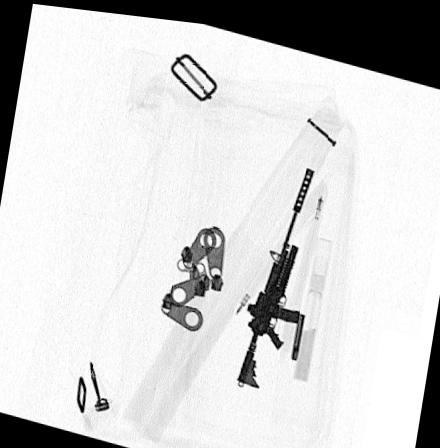Gun: (237, 157, 315, 383)
